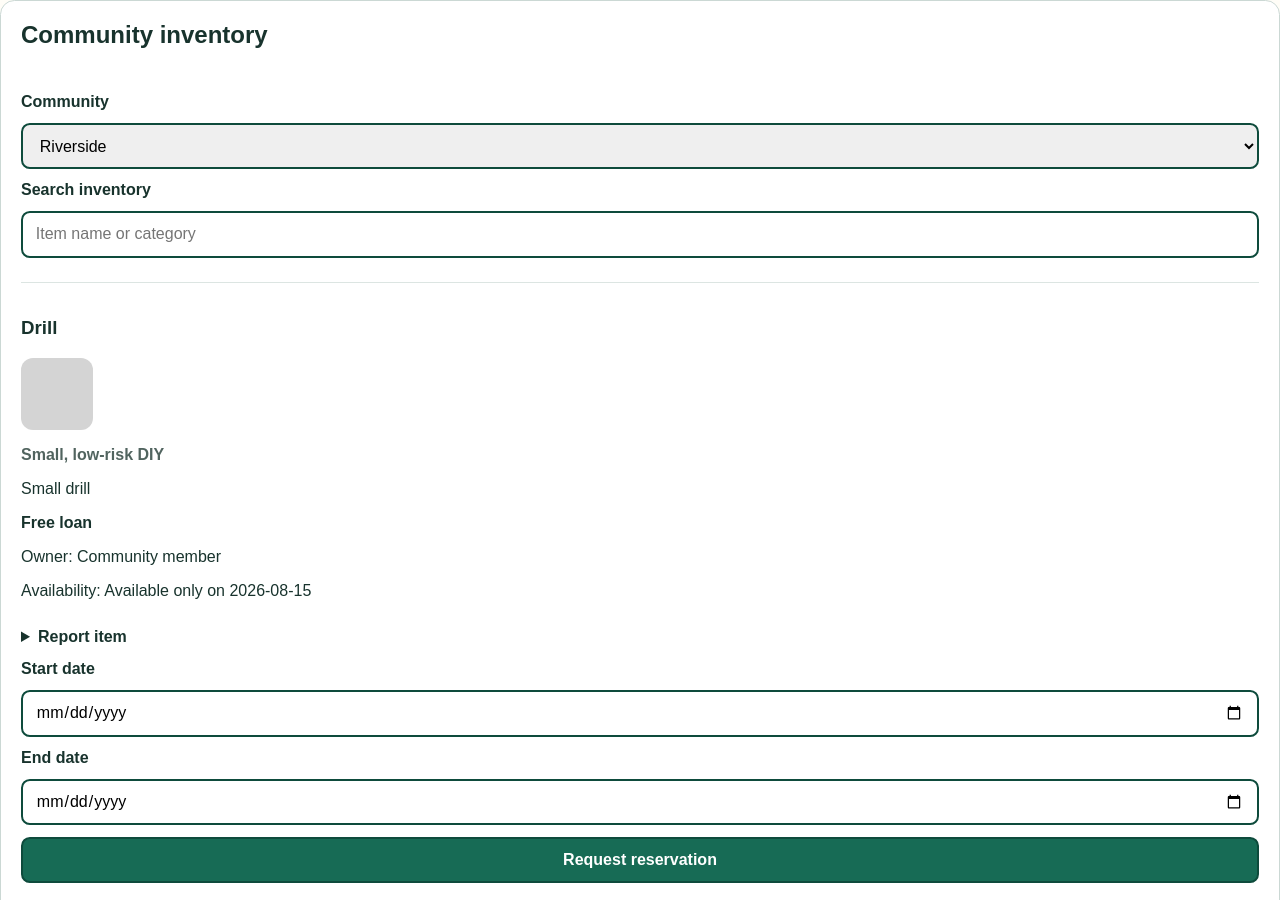
Test: ItemSection › submits labelled booking dates and confirms Requested status
In the date field labelled "Start date": (640, 713) [21, 690, 1259, 736], type "2026-08-15"
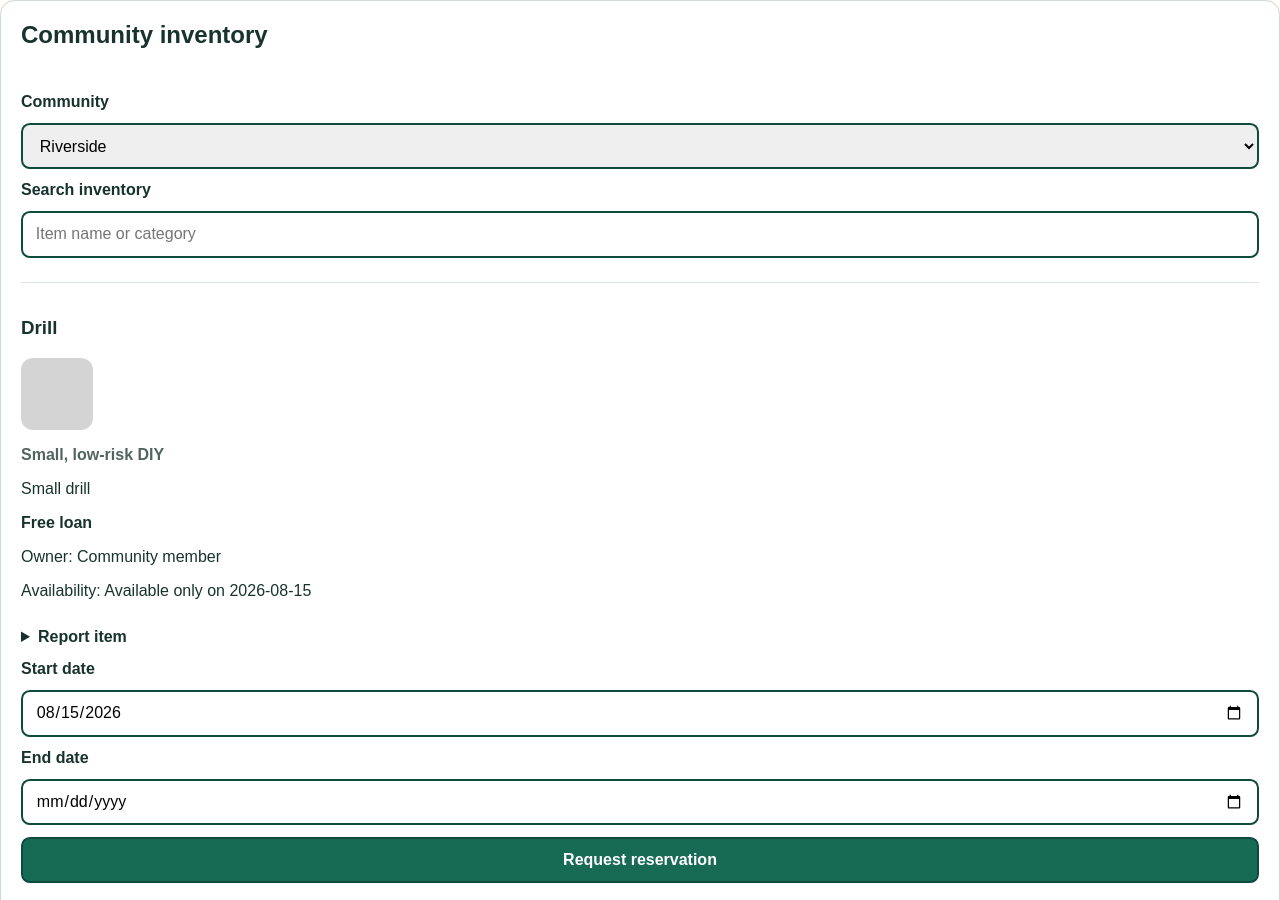
In the date field labelled "End date": (640, 802) [21, 778, 1259, 825], type "2026-08-15"
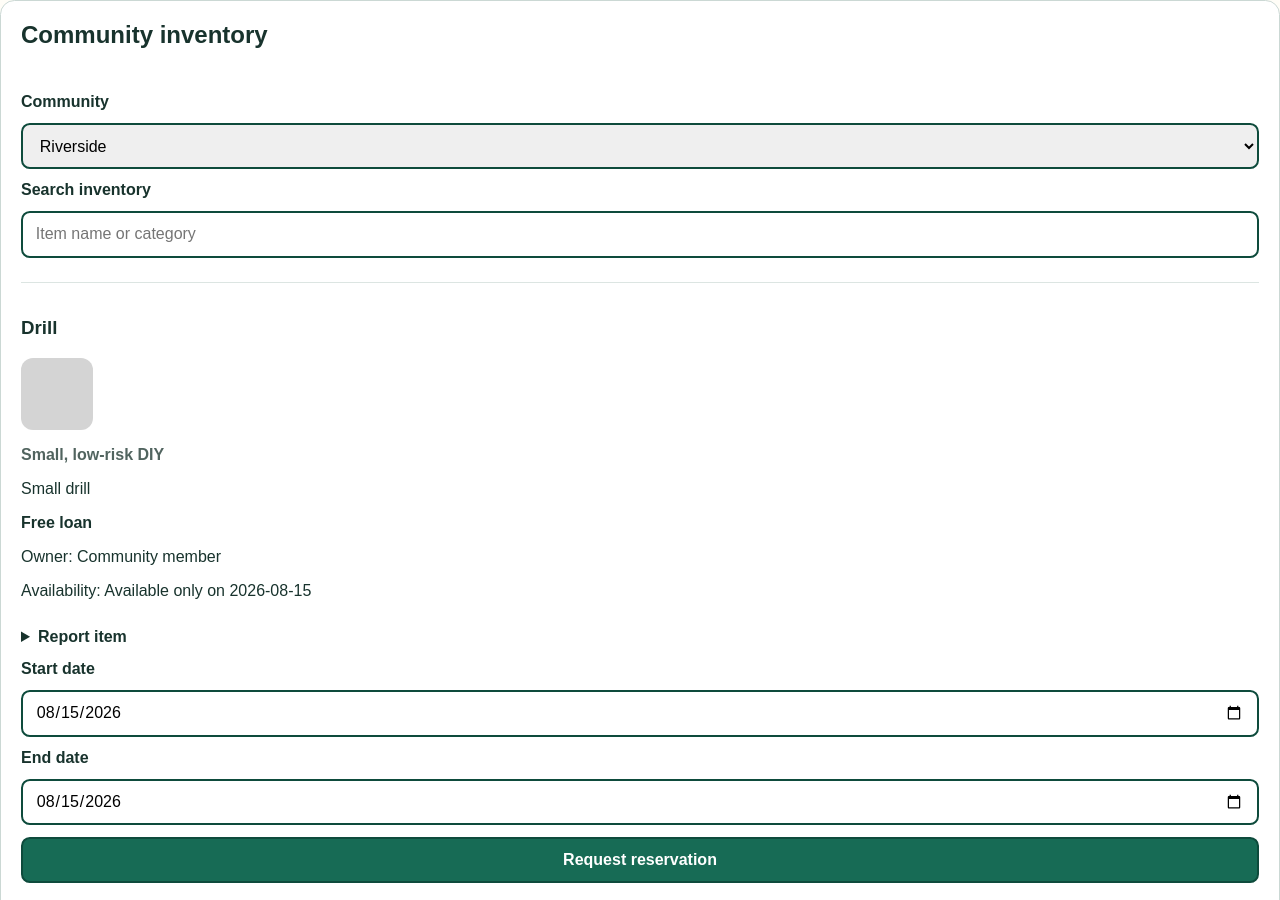
Click the button "Request reservation": (640, 860) [21, 837, 1259, 883]
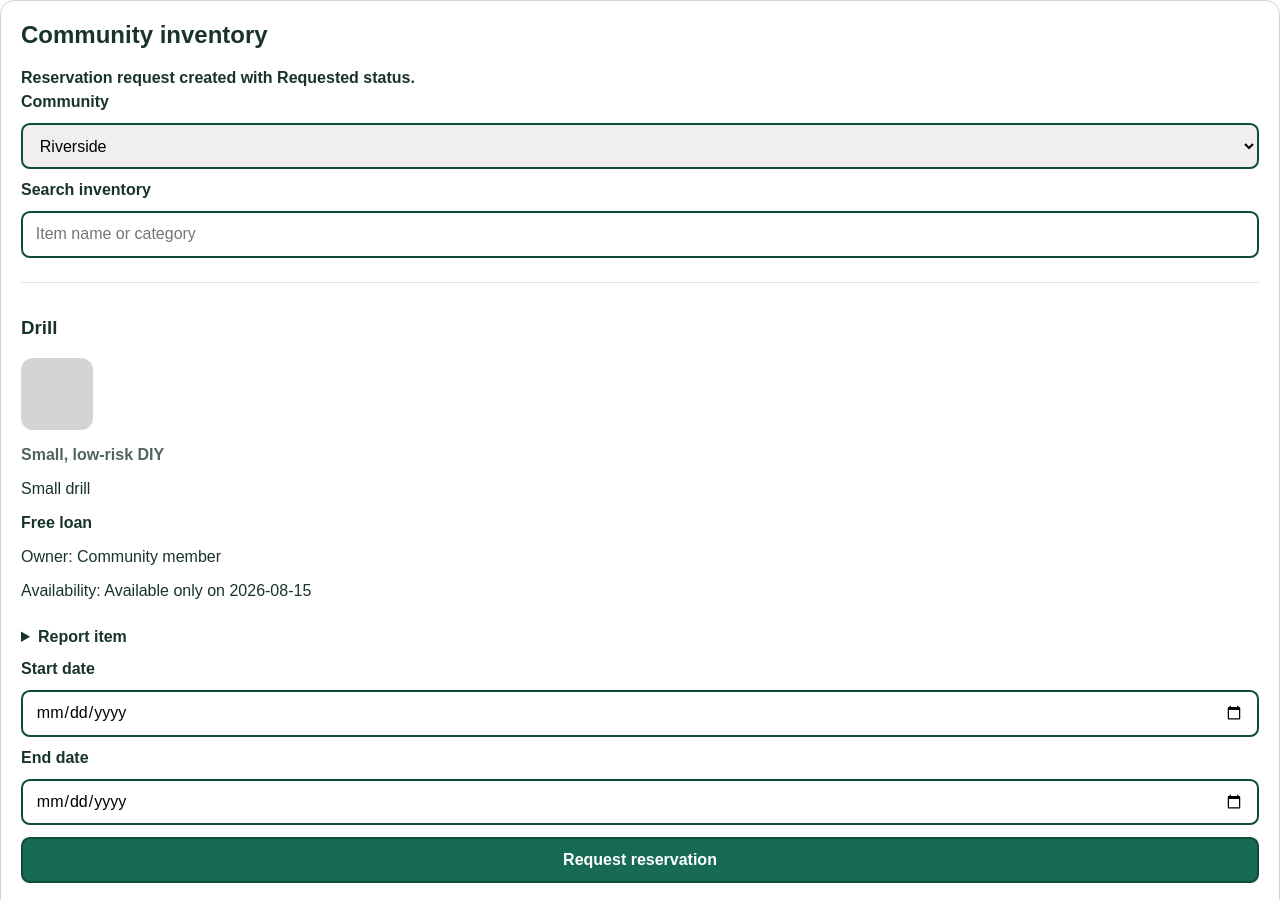
Now the text "Reservation request created with Requested status." is shown, box [21, 69, 415, 86]
